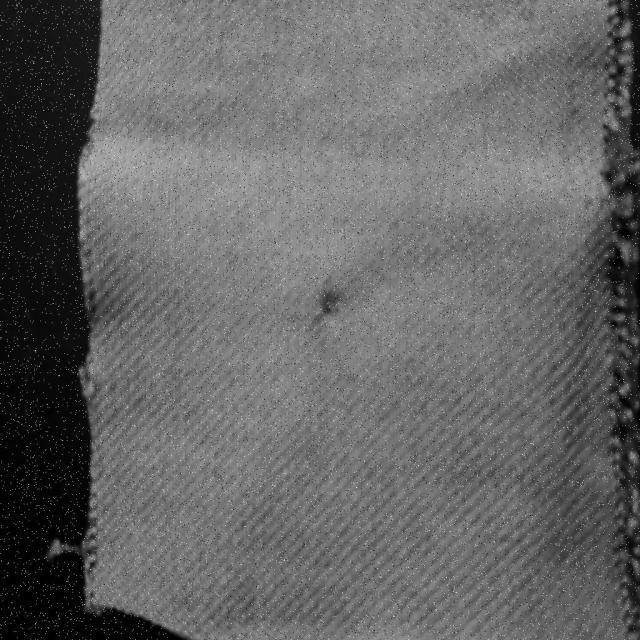other: (310, 254, 370, 350)
